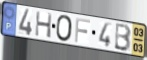4: (18, 8, 34, 37), (97, 21, 112, 49)
B: (114, 23, 133, 53)
F: (74, 17, 92, 44)
H: (34, 11, 53, 40)
O: (56, 14, 74, 43)
